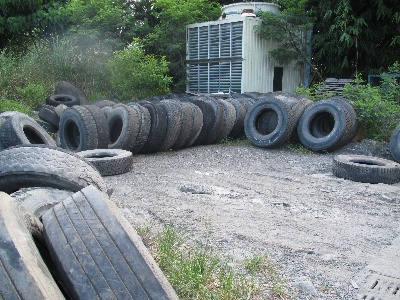tire: (295, 100, 352, 152), (246, 99, 292, 148), (330, 153, 400, 184), (59, 105, 98, 151), (71, 148, 135, 175), (106, 103, 139, 150), (145, 102, 166, 153), (165, 101, 183, 155)
